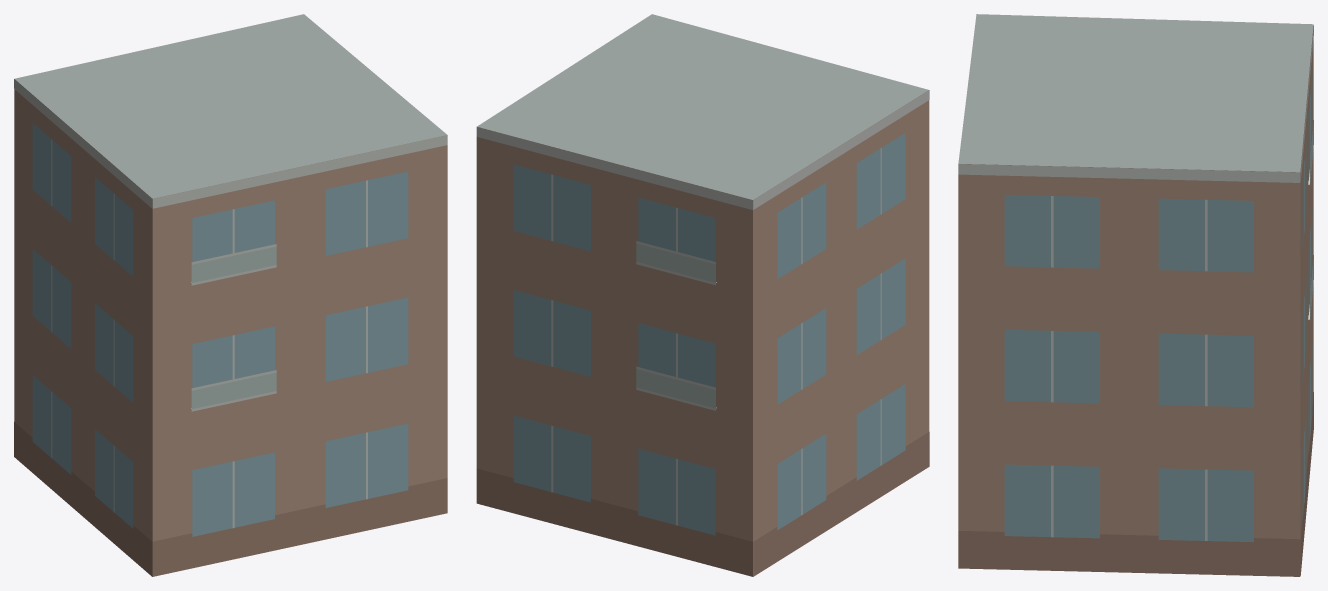
File: survey-upis-32500820.glb
The picture shows the model from 3 angles, left to right: view 1: azimuth 30°, elevation 25°; view 2: azimuth 150°, elevation 25°; view 3: azimuth 270°, elevation 25°; orthographic projection. The views are drawn at different scales.
Parts seen in each view (by area): view 1: survey-upis-32500820.tmp; view 2: survey-upis-32500820.tmp; view 3: survey-upis-32500820.tmp.
Part boxes in pixels (x1=…): survey-upis-32500820.tmp: x1=14, y1=14, x2=447, y2=576; survey-upis-32500820.tmp: x1=476, y1=14, x2=929, y2=576; survey-upis-32500820.tmp: x1=958, y1=14, x2=1313, y2=576.
Size of the model in its own units: 7.68 by 9.15 by 7.29.
